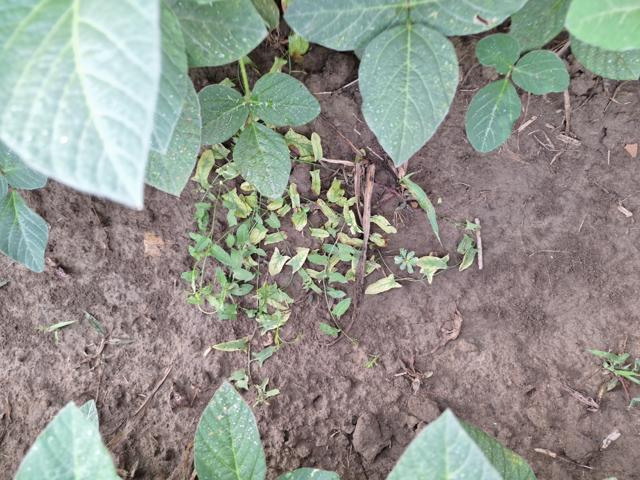bad weed: (175, 127, 501, 380), (583, 341, 640, 412)
